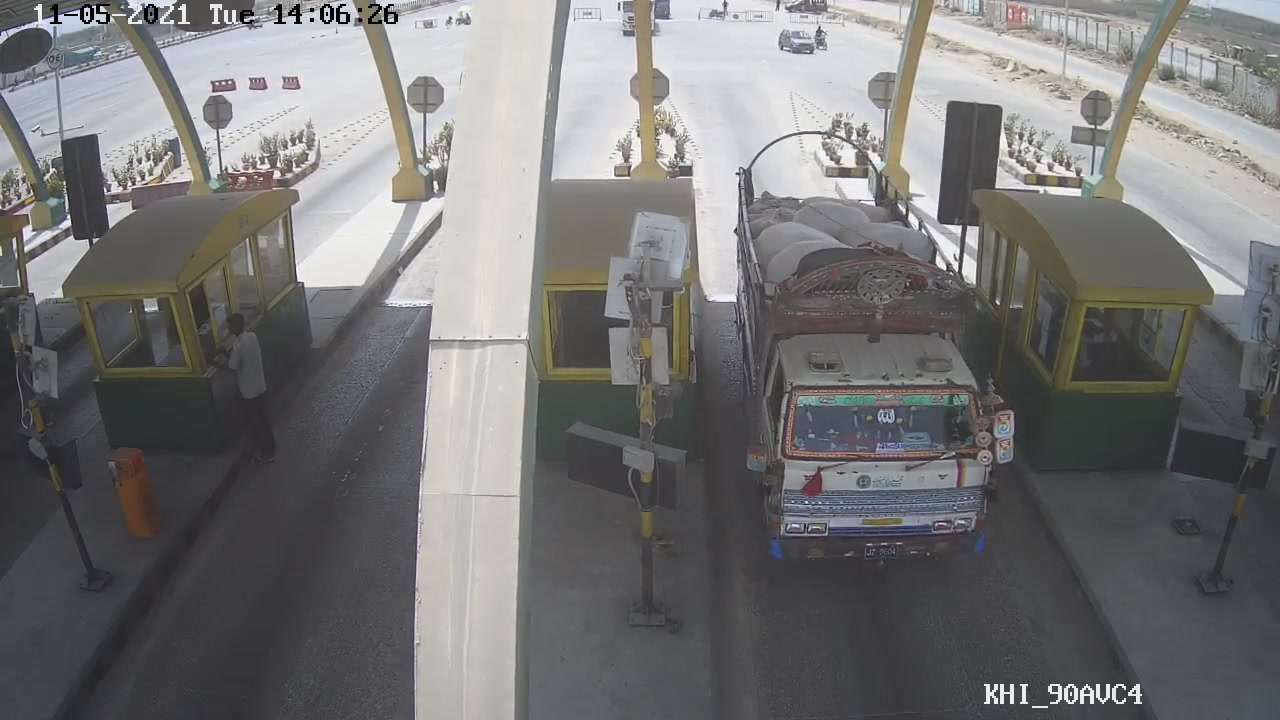F5: (731, 132, 1019, 584)
